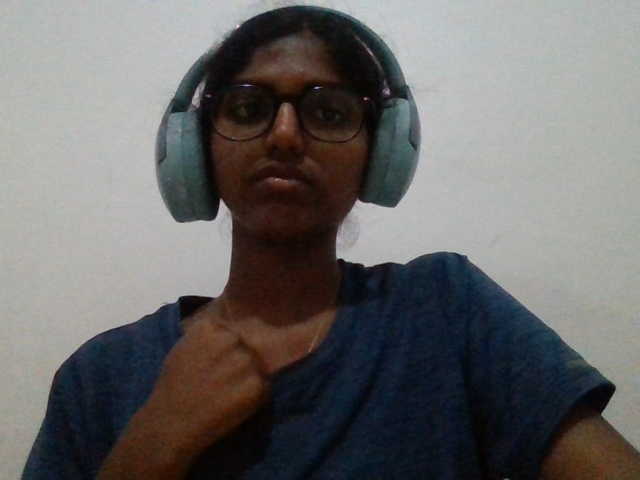Sorry: (122, 297, 288, 465)
